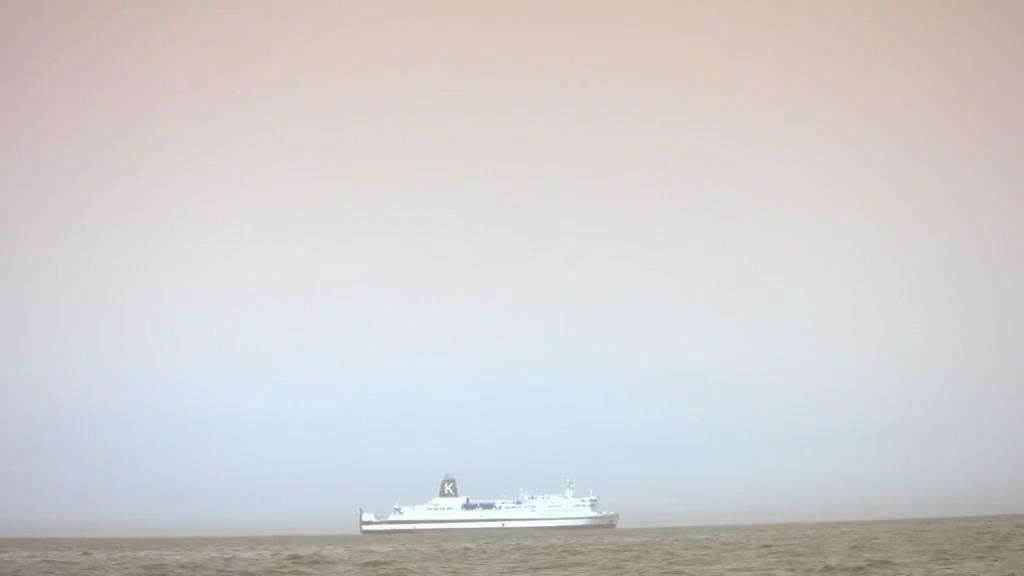PassengerShip: (352, 472, 630, 536)
